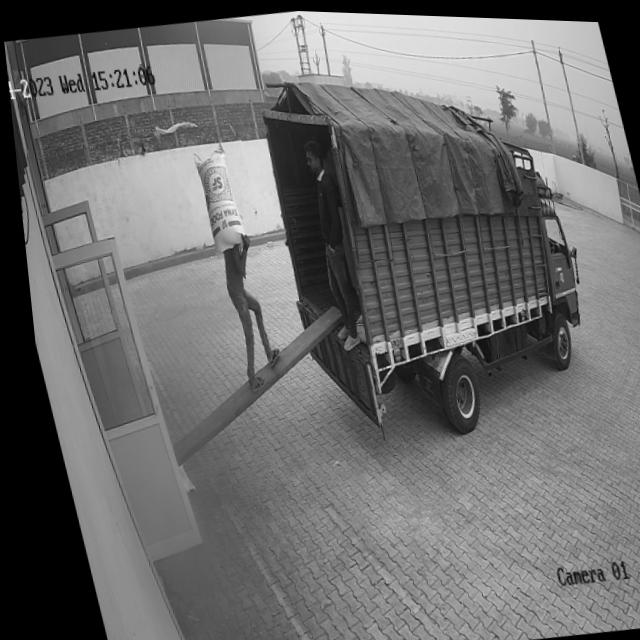sack: (186, 139, 245, 253)
